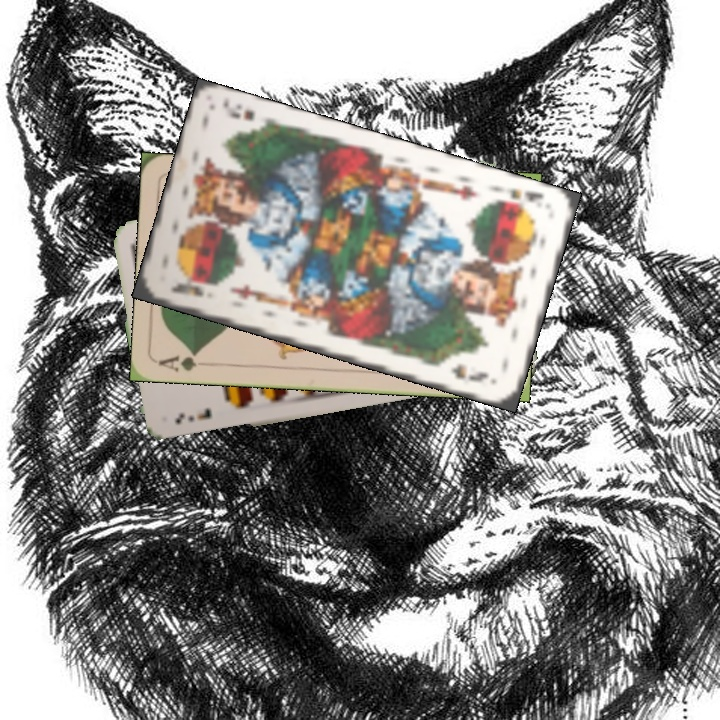E7: (171, 403, 215, 427)
GA: (155, 348, 201, 375)
SK: (492, 182, 547, 213), (166, 278, 206, 300)
